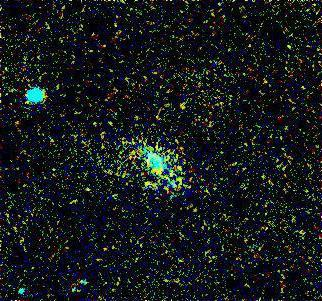star: (145, 160, 175, 190)
